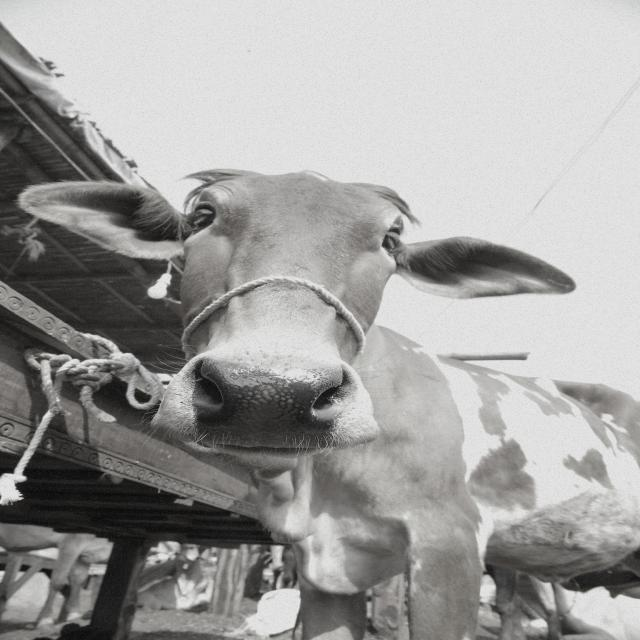muzzles: (192, 352, 354, 453)
